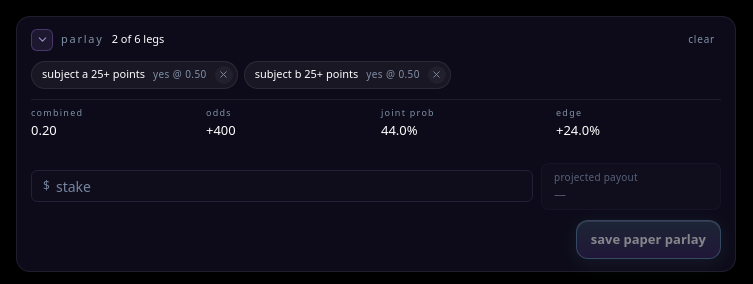
ParlayTray › uses the server combined price for displayed odds and projection
Expected: the element with test id "parlay-tray-quote" shows "0.20", [31,121,57,139]
Expected: the element with test id "parlay-tray-quote" shows "+400", [206,121,236,139]
Type "100" into the field with test id "parlay-tray-stake".
click(282, 186); type("100")  # box [31,170,533,202]
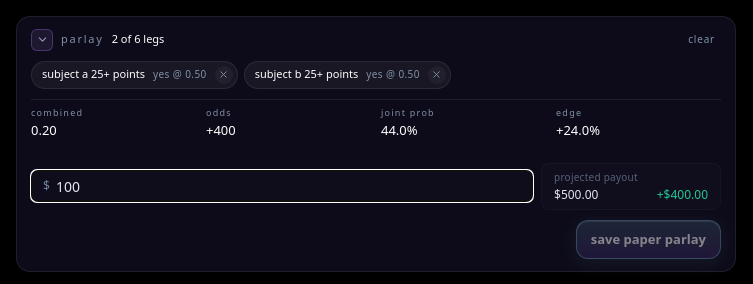
Result: the element with test id "parlay-tray-projection" shows "$500.00" at [541,162,721,210]
